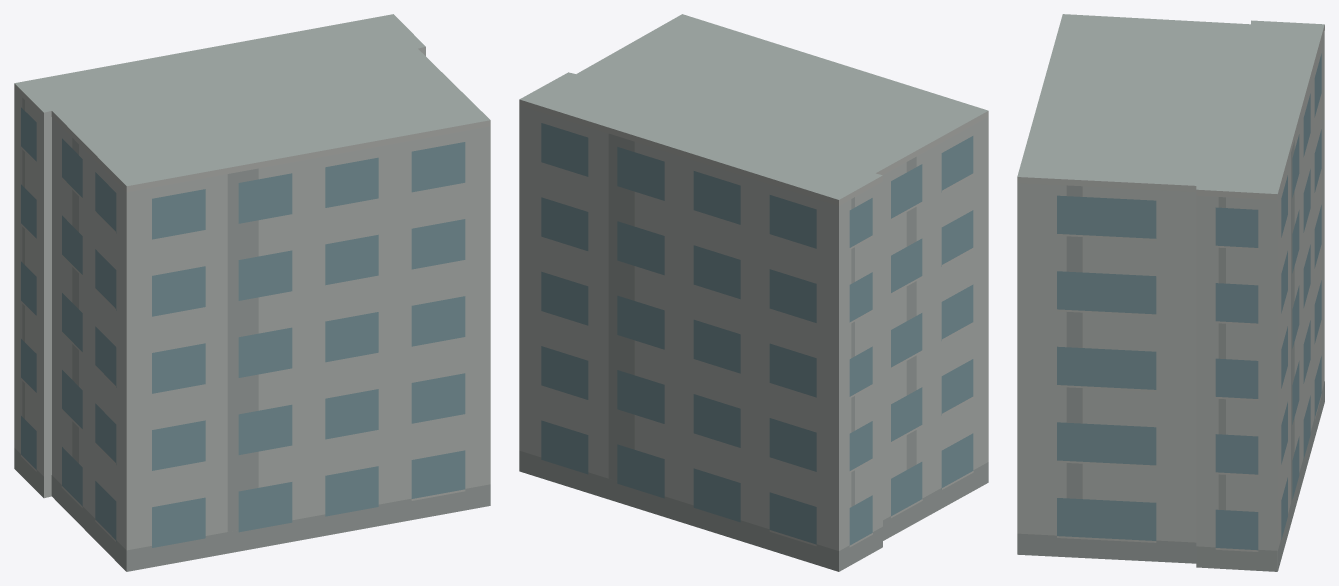
Rendered from survey-upis-32960365.glb.
3 views of the same model, side by side, from view 1: azimuth 30°, elevation 25°; view 2: azimuth 150°, elevation 25°; view 3: azimuth 270°, elevation 25° (orthographic). The views are drawn at different scales.
Parts seen in each view (by area): view 1: survey-upis-32960365.tmp; view 2: survey-upis-32960365.tmp; view 3: survey-upis-32960365.tmp.
Boxes of the visible parts, x1,y1,x2,y2 form: survey-upis-32960365.tmp: (14,14,490,571); survey-upis-32960365.tmp: (519,14,988,571); survey-upis-32960365.tmp: (1017,14,1324,571).
Size of the model in its own units: 15.61 by 15.25 by 11.26.
